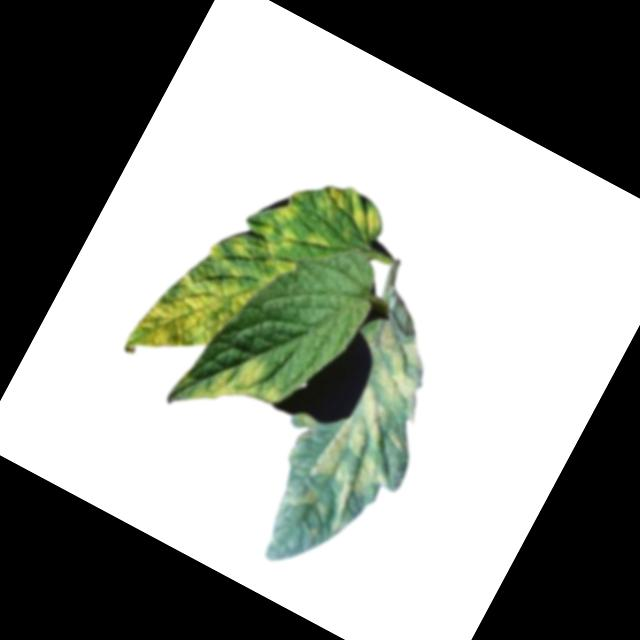Leaf_Mold: (279, 295, 477, 551), (121, 245, 256, 384), (187, 338, 289, 437), (248, 216, 311, 280), (201, 229, 254, 279), (343, 196, 392, 246), (305, 177, 352, 226), (265, 190, 300, 225)
